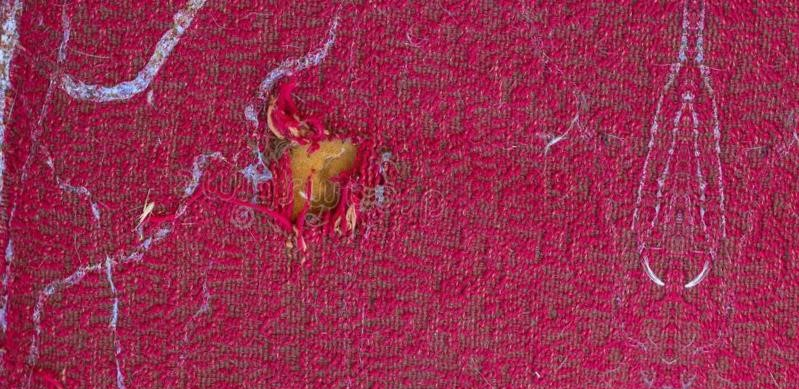hole: (276, 112, 379, 245)
